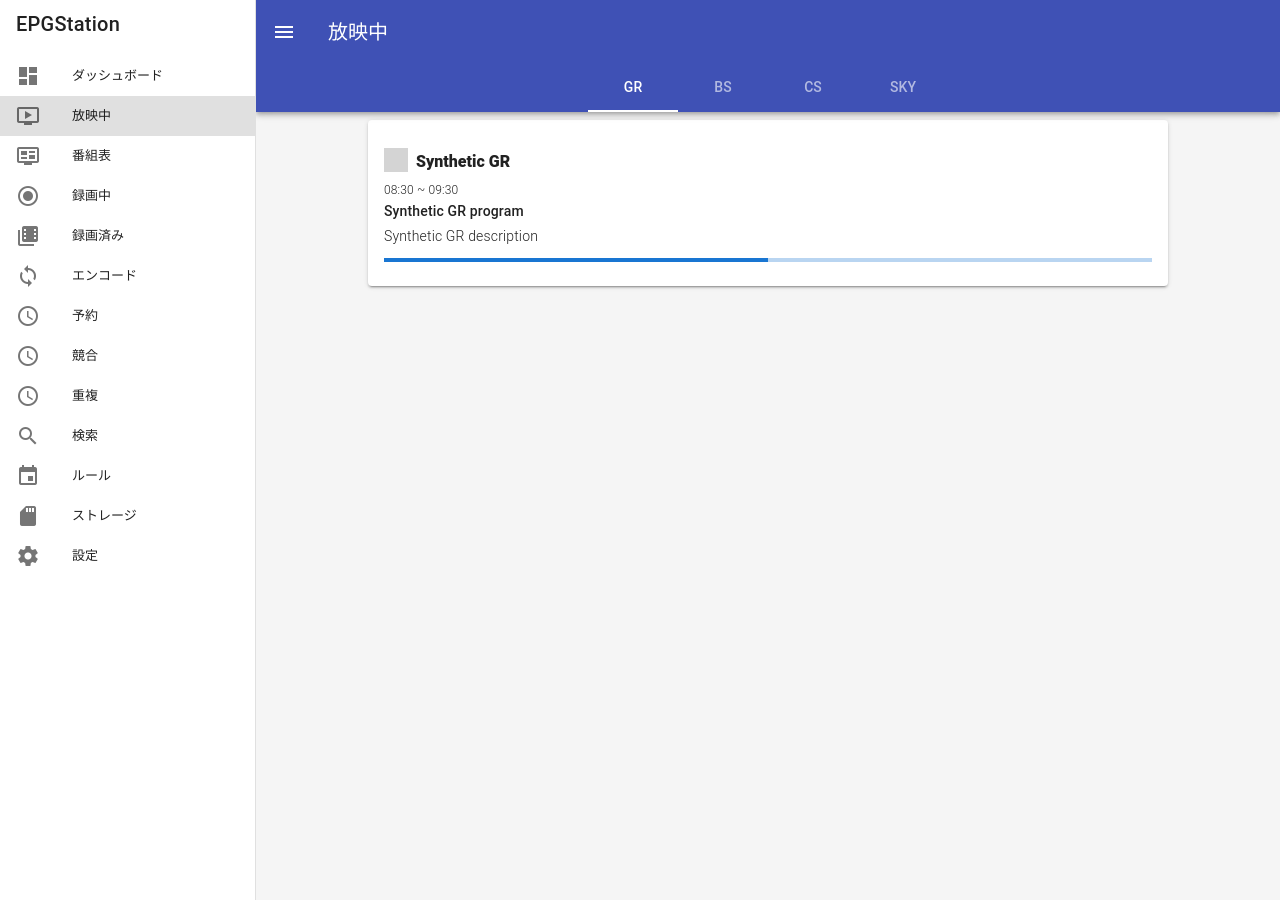
On Air card and ProgramDialog actions › [AC 2.5] keeps the shared ProgramDialog open after StrictMode effect replay
What coordinates should you click on to do the following:
click the button with test id "onair-card-header"
I would click on:
 (400, 160)
Its box is x1=384 y1=144 x2=1152 y2=176.
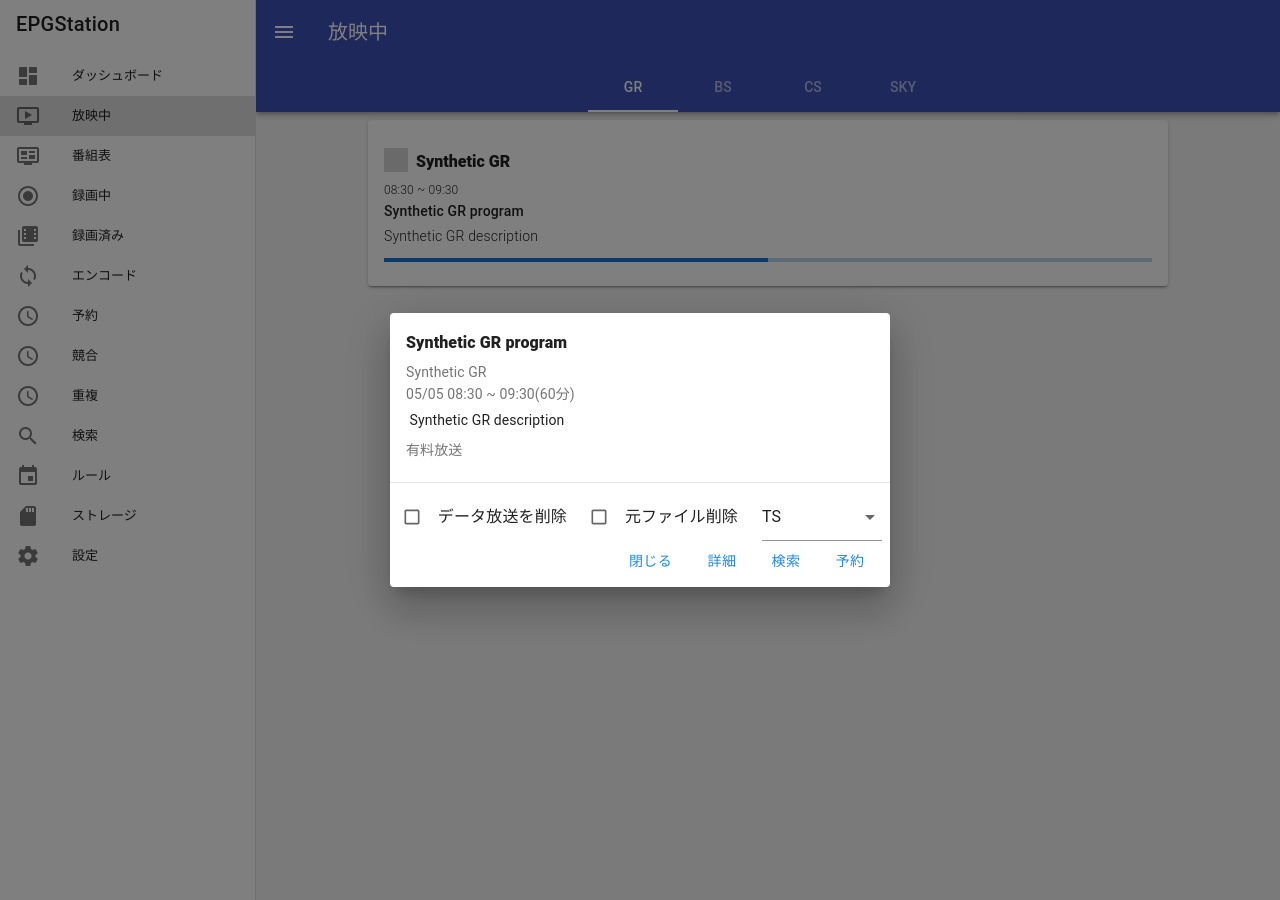
Expected: the dialog "Synthetic GR program" is shown, x1=390 y1=313 x2=890 y2=587
